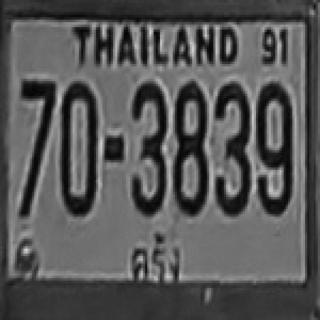N00: (59, 79, 97, 209), (255, 79, 289, 162)
N03: (213, 81, 250, 214), (130, 81, 166, 214)
N07: (19, 78, 53, 161), (19, 79, 53, 153)
N08: (171, 79, 207, 214)
N09: (255, 84, 291, 214)
P70: (120, 229, 188, 286)
